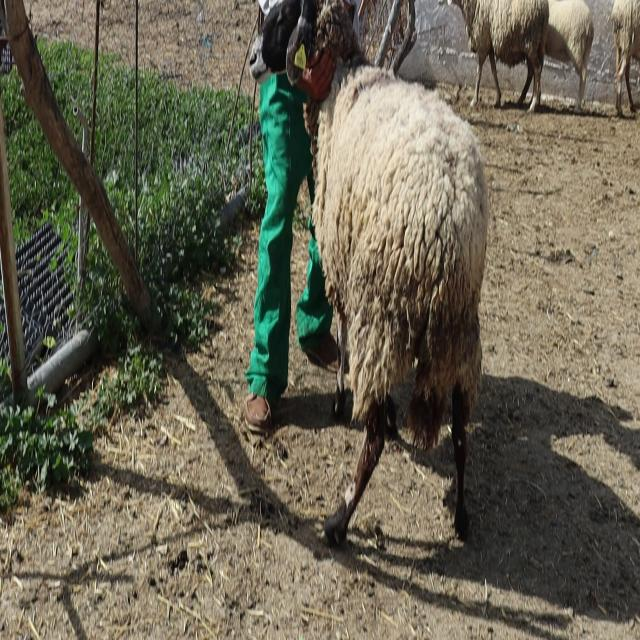Score_5: (304, 0, 488, 544)
